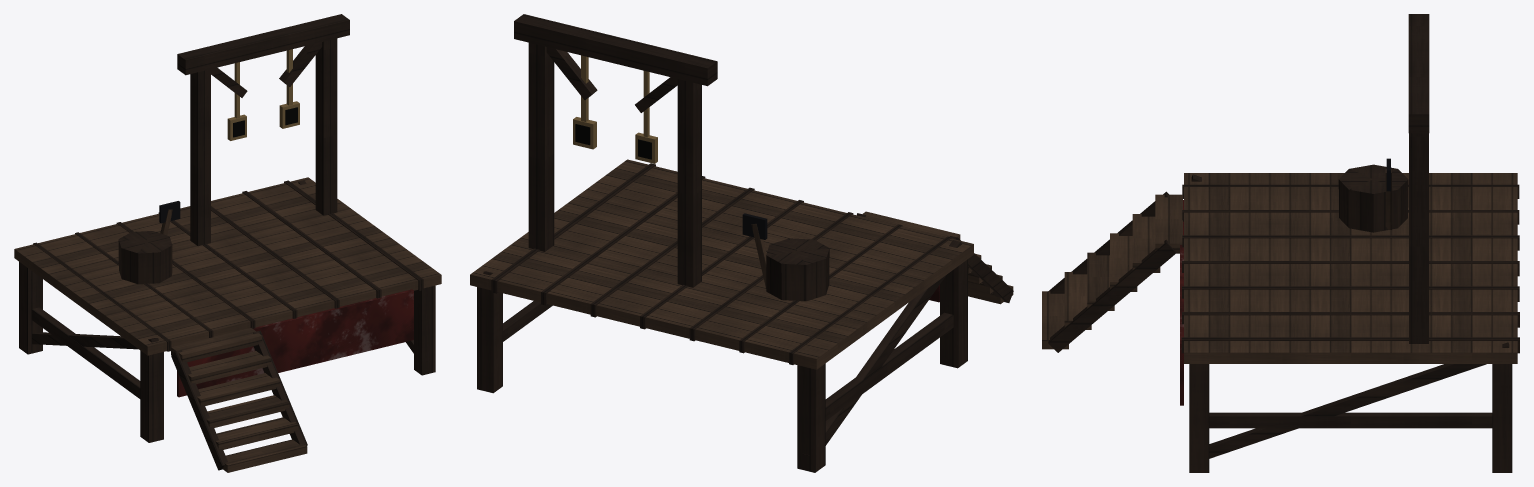
Rendered from PlazaCadalso.gltf.
3 views of the same model, side by side, from view 1: azimuth 30°, elevation 25°; view 2: azimuth 150°, elevation 25°; view 3: azimuth 270°, elevation 25° (orthographic). The views are drawn at different scales.
Visible parts, largest first — view 1: PlazaCadalso; view 2: PlazaCadalso; view 3: PlazaCadalso.
Part boxes in pixels (x1=…): PlazaCadalso: x1=14, y1=14, x2=441, y2=472; PlazaCadalso: x1=470, y1=14, x2=1013, y2=472; PlazaCadalso: x1=1042, y1=14, x2=1519, y2=472.
Bounding box in the file's own units: 5.61 × 5.25 × 6.31.
6 materials, 3 textured.
